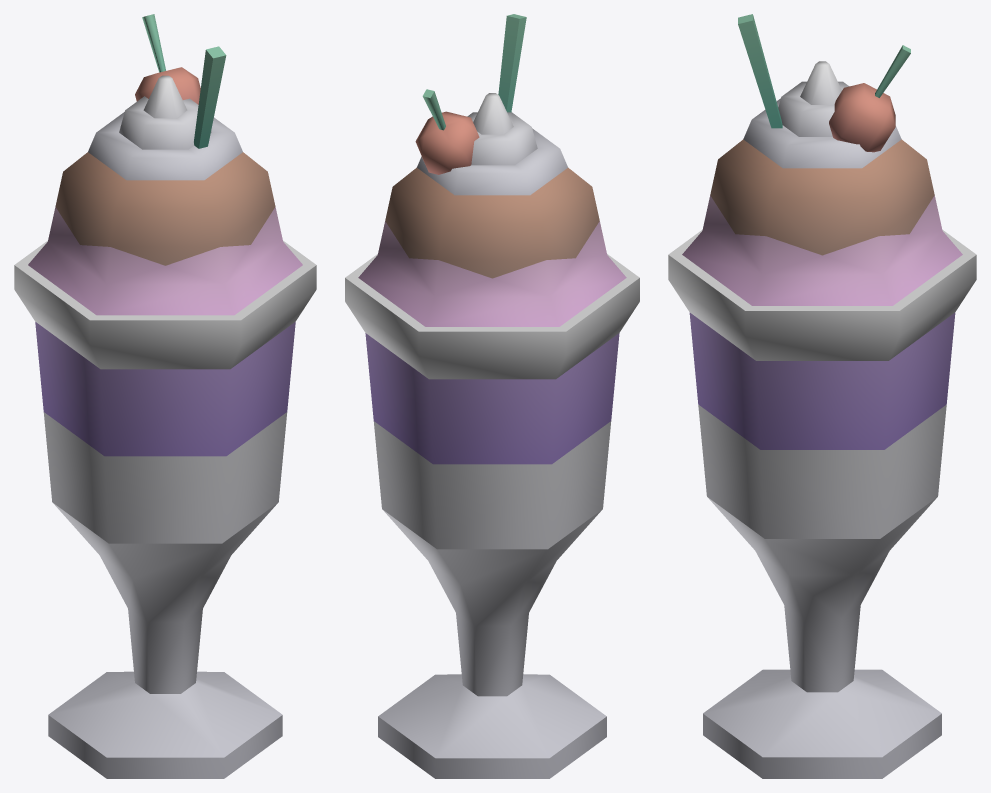
Rendered from sundae.glb.
3 views of the same model, side by side, from view 1: azimuth 30°, elevation 25°; view 2: azimuth 150°, elevation 25°; view 3: azimuth 270°, elevation 25° (orthographic). The views are drawn at different scales.
Parts seen in each view (by area): view 1: sundae; view 2: sundae; view 3: sundae.
Boxes of the visible parts, bbox=[...] form: sundae: bbox=[14, 14, 316, 778]; sundae: bbox=[345, 14, 639, 778]; sundae: bbox=[668, 14, 976, 778].
Size of the model in its own units: 0.2232 by 0.6679 by 0.2577.
